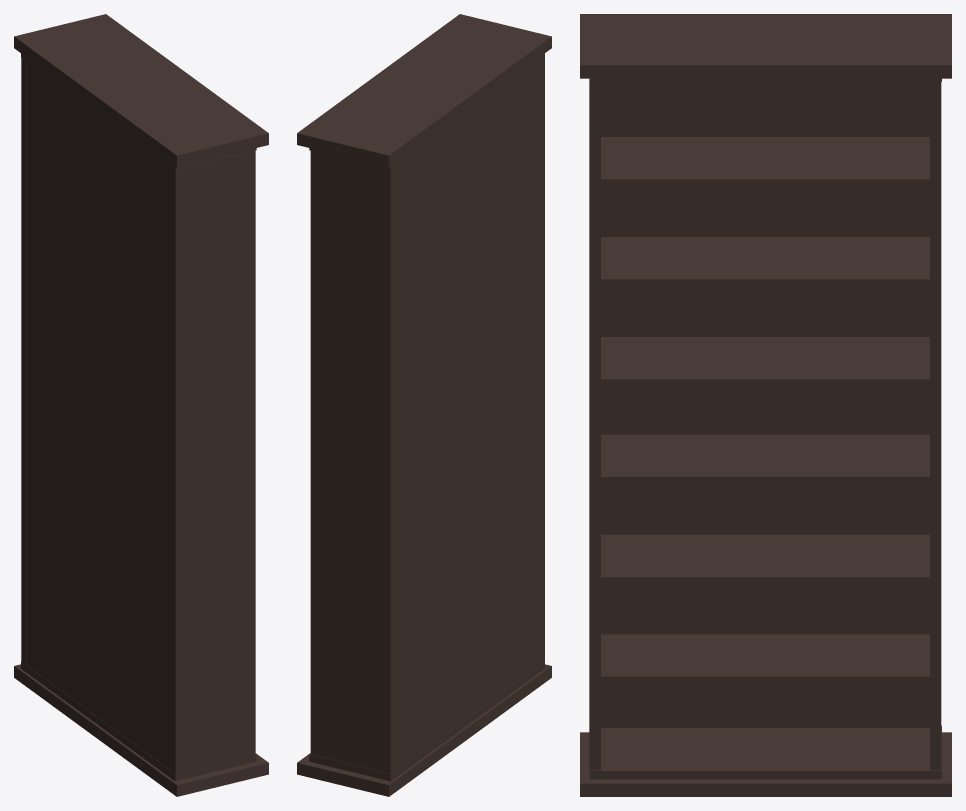
The model's file is TallBookshelfEmpty.fbx.
The picture shows the model from 3 angles, left to right: view 1: azimuth 30°, elevation 25°; view 2: azimuth 150°, elevation 25°; view 3: azimuth 270°, elevation 25°; orthographic projection. The views are drawn at different scales.
Parts seen in each view (by area): view 1: Cube.009, Cube.002, Cube.001, Cube.065, Cube.003, Cube.004, Cube.008; view 2: Cube.009, Cube.003, Cube.001, Cube.065, Cube.002, Cube.004, Cube.008; view 3: Cube.009, Cube.001, Cube.004, Cube.006, Cube.007, Cube.005, Cube.010, Cube.011, Cube.056, Cube.002, Cube.003, Cube.065 (+1 smaller).
Boxes of the visible parts, left/top/right/bottom form: Cube.009: left=26, top=62, right=170, bottom=770; Cube.002: left=170, top=150, right=255, bottom=776; Cube.001: left=14, top=14, right=268, bottom=167; Cube.065: left=14, top=664, right=268, bottom=796; Cube.003: left=21, top=58, right=26, bottom=664; Cube.004: left=21, top=661, right=256, bottom=781; Cube.008: left=21, top=53, right=256, bottom=169; Cube.009: left=396, top=61, right=539, bottom=769; Cube.003: left=310, top=151, right=395, bottom=773; Cube.001: left=297, top=14, right=551, bottom=167; Cube.065: left=297, top=664, right=551, bottom=796; Cube.002: left=540, top=57, right=544, bottom=664; Cube.004: left=309, top=661, right=544, bottom=781; Cube.008: left=309, top=53, right=544, bottom=169; Cube.009: left=601, top=81, right=929, bottom=727; Cube.001: left=580, top=14, right=951, bottom=78; Cube.004: left=590, top=725, right=941, bottom=779; Cube.006: left=601, top=534, right=929, bottom=580; Cube.007: left=601, top=434, right=929, bottom=480; Cube.005: left=601, top=634, right=929, bottom=679; Cube.010: left=601, top=137, right=929, bottom=182; Cube.011: left=601, top=237, right=929, bottom=282; Cube.056: left=601, top=337, right=929, bottom=382; Cube.002: left=589, top=78, right=600, bottom=773; Cube.003: left=930, top=81, right=941, bottom=770; Cube.065: left=580, top=732, right=951, bottom=796.
Bounding box in the file's own units: 102 × 682 × 314.
